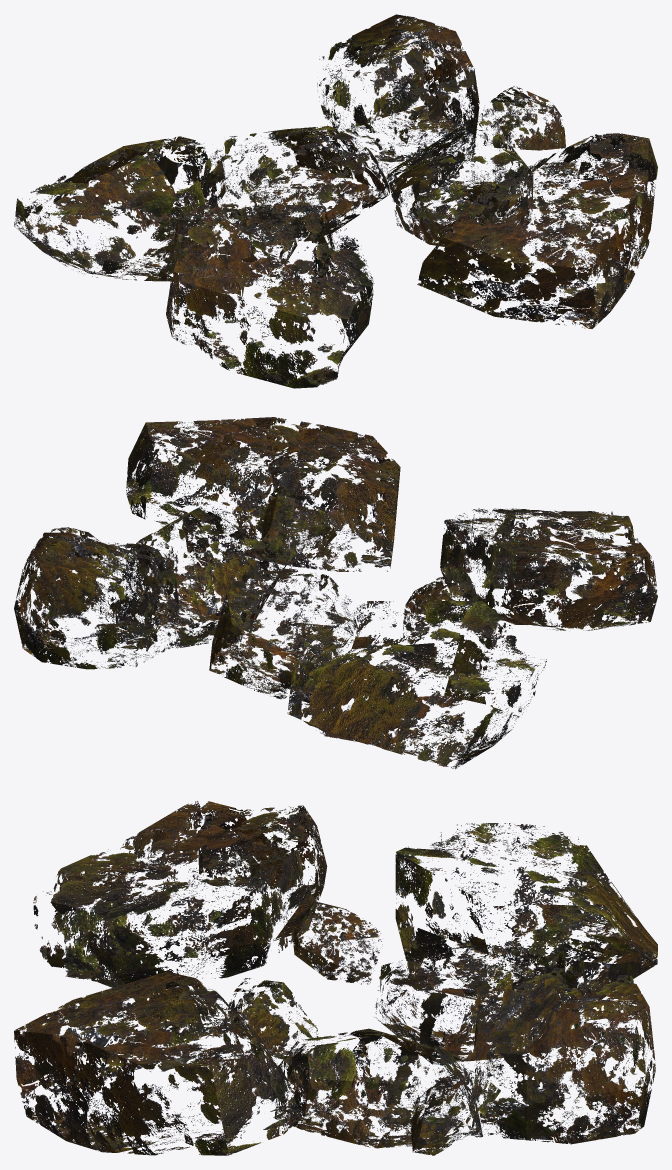
File: Moss 01.FBX
The picture shows the model from 3 angles, top to bottom: view 1: azimuth 30°, elevation 25°; view 2: azimuth 150°, elevation 25°; view 3: azimuth 270°, elevation 25°; orthographic projection. The views are drawn at different scales.
Visible parts, largest first — view 1: Moss 01; view 2: Moss 01; view 3: Moss 01.
Part boxes in pixels (x1=…): Moss 01: x1=14, y1=14, x2=657, y2=388; Moss 01: x1=14, y1=417, x2=657, y2=769; Moss 01: x1=14, y1=801, x2=657, y2=1155.
Bounding box in the file's own units: 60.69 × 16.55 × 54.72.
